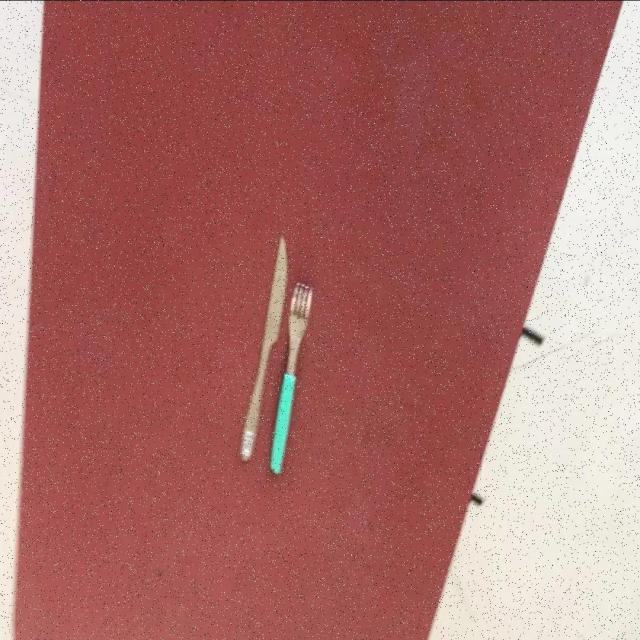Fork: (268, 279, 313, 474)
Knife: (238, 232, 288, 461)
